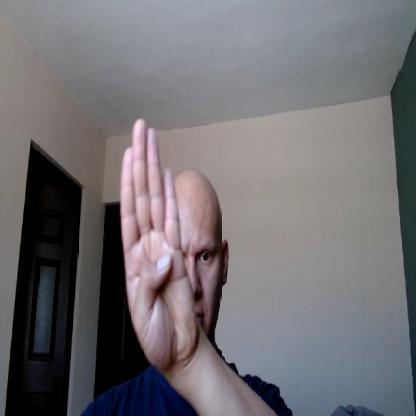B: (119, 116, 198, 366)
